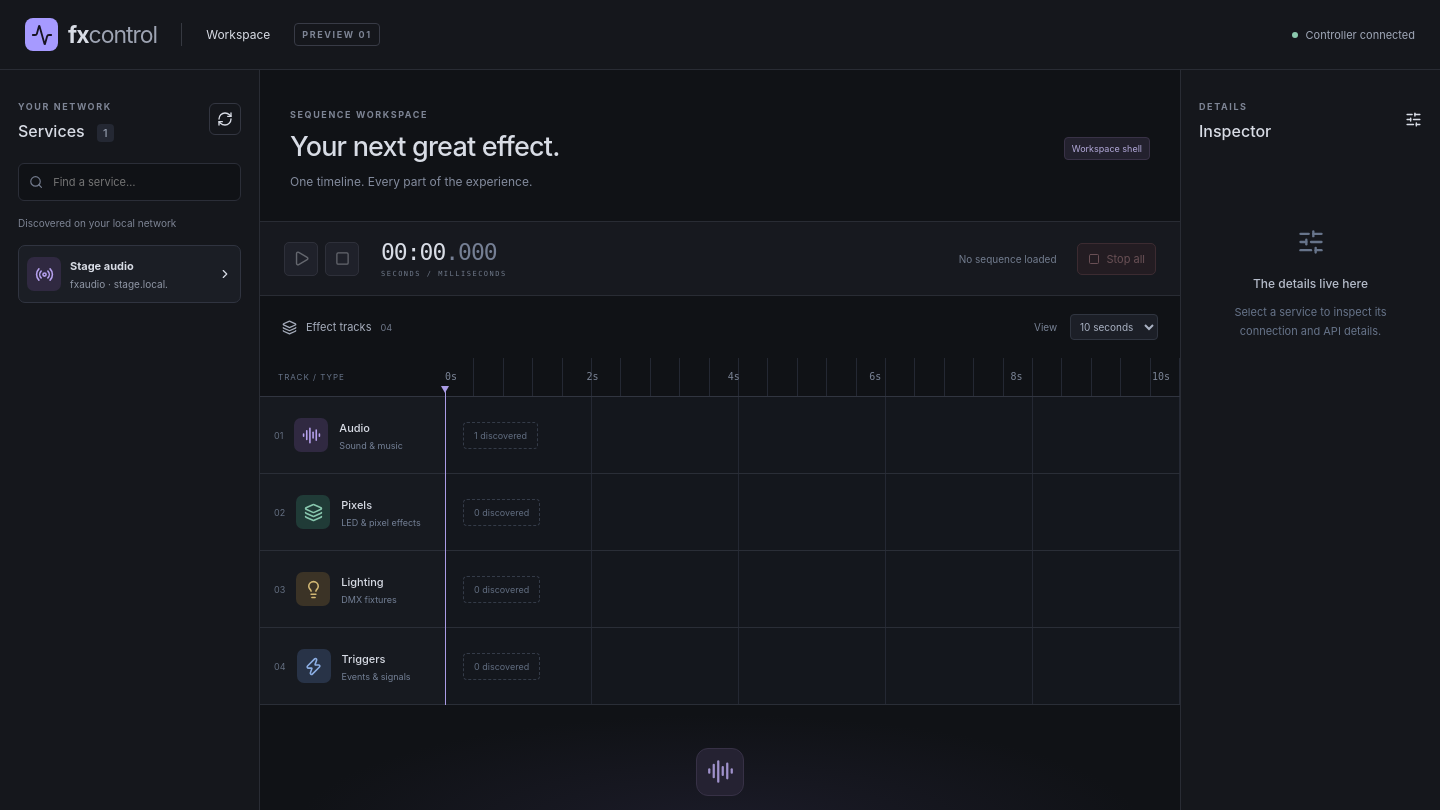
Scenario: workspace discovery › retains a stale snapshot on failure and recovers on refresh
The width and height of the screenshot is (1440, 810).
What coordinates should you click on to do the following:
click the button "Stage audio fxaudio · stage.local."
I would click on:
 (130, 274)
Its box is [18,245,241,303].
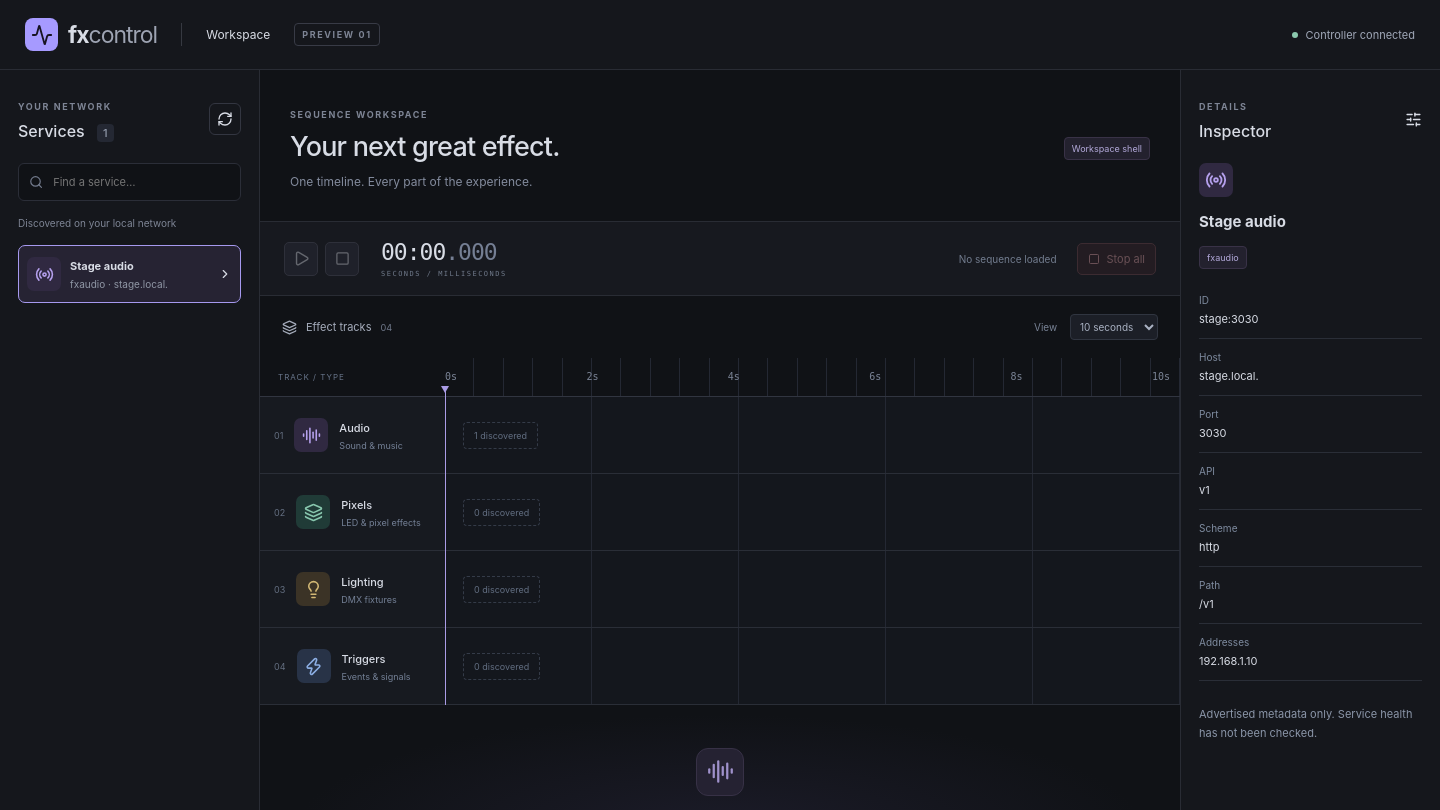
What coordinates should you click on to do the following:
click the button named "Refresh discovery"
I would click on:
 (225, 119)
Its box is [209,103,241,135].
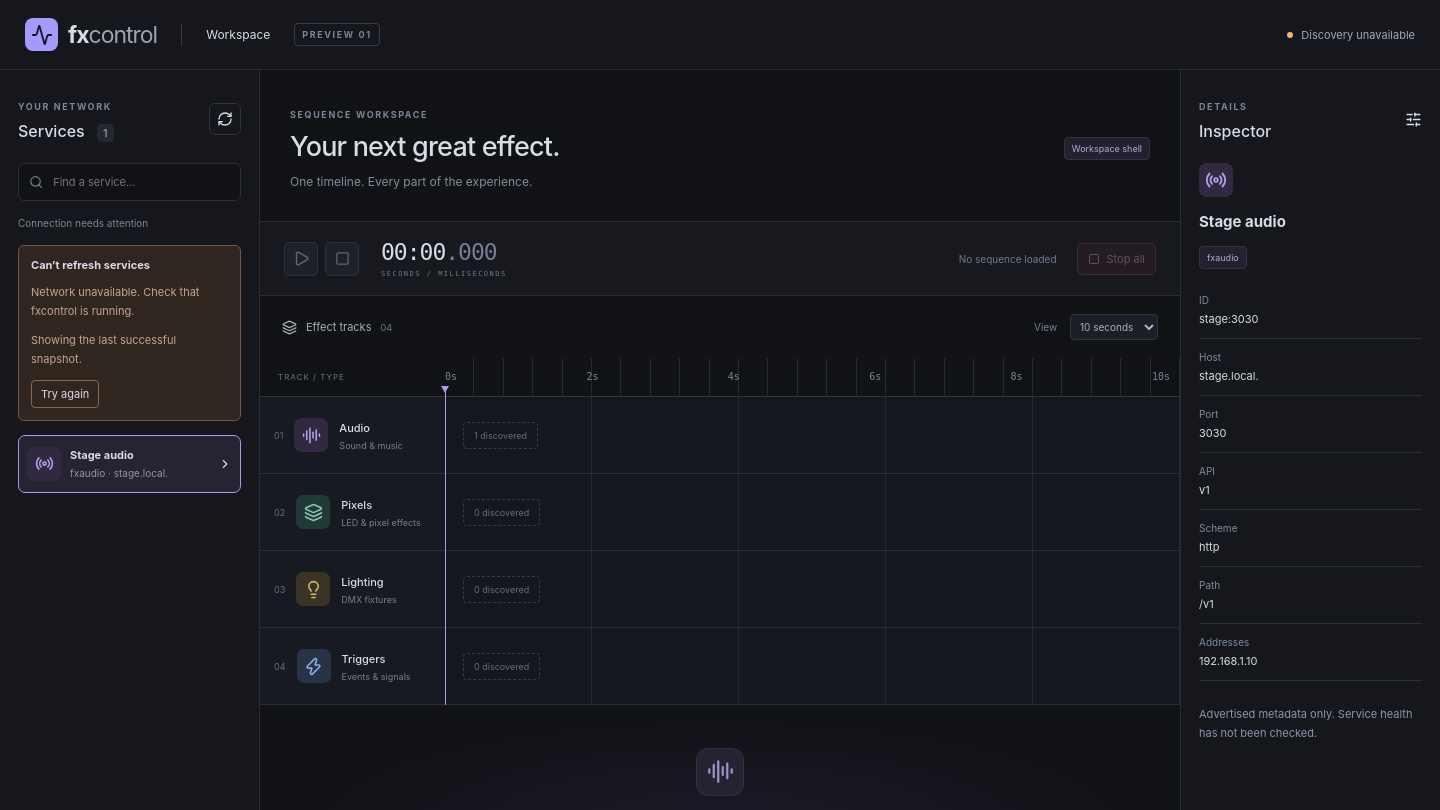
Expected: the button "Stage audio fxaudio · stage.local." is shown, [18,435,241,493]
Expected: the message that starts with "Can’t refresh services" shows "Showing the last successful snapshot", [31,333,176,366]
What coordinates should you click on to do the following:
click the button "Try again"
I would click on:
 (65, 394)
Its box is [31,380,99,408].
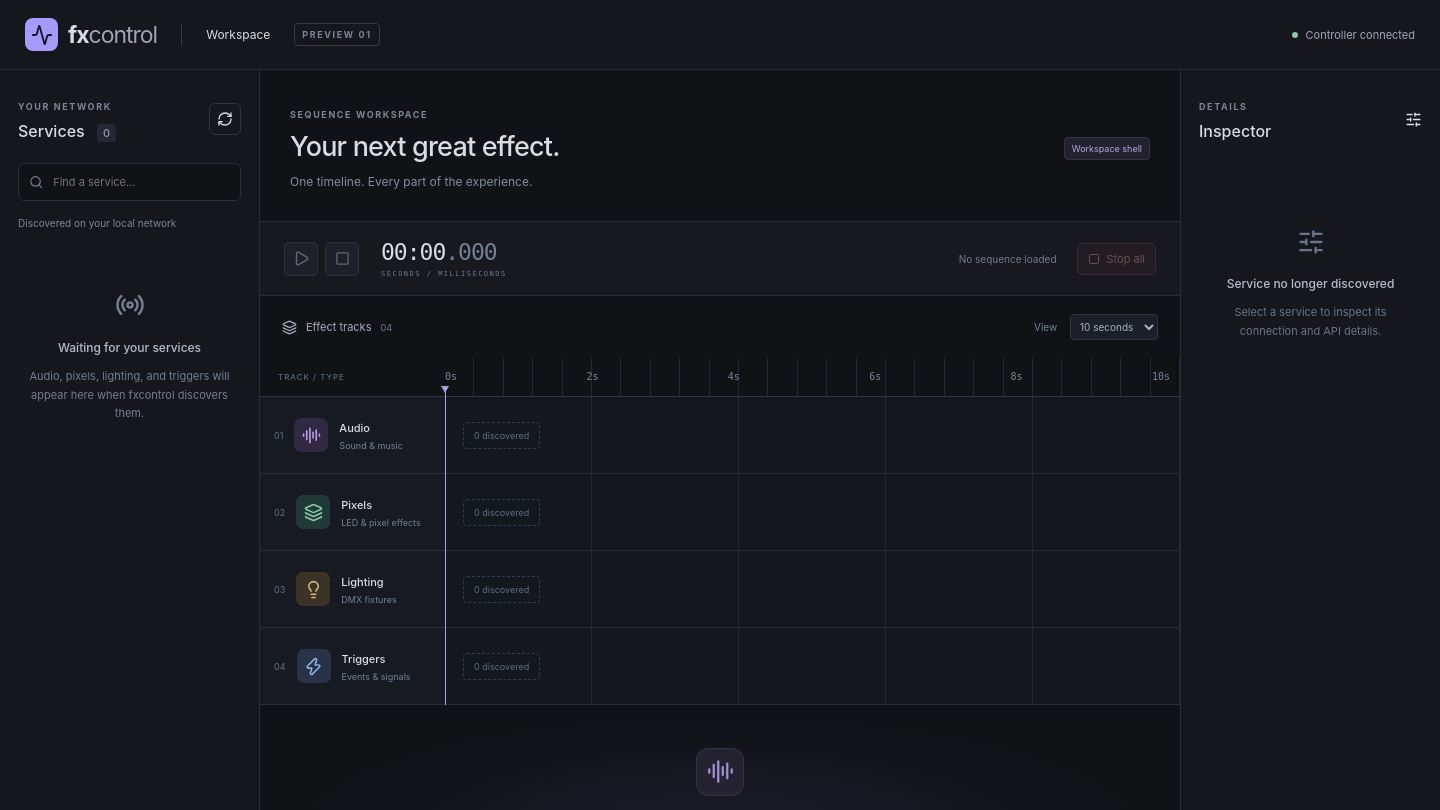
Expected: the heading "Waiting for your services" is shown, [58,340,201,355]
Expected: the heading "Service no longer discovered" is shown, [1227,276,1394,291]
